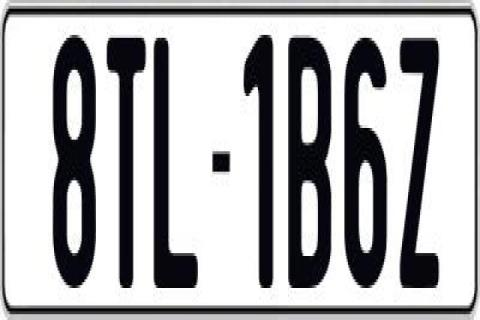0: (52, 26, 100, 282), (342, 29, 386, 294), (244, 32, 276, 294)
B: (287, 35, 338, 303)
L: (154, 35, 204, 285)
T: (104, 38, 146, 297)
Z: (400, 29, 442, 285)
